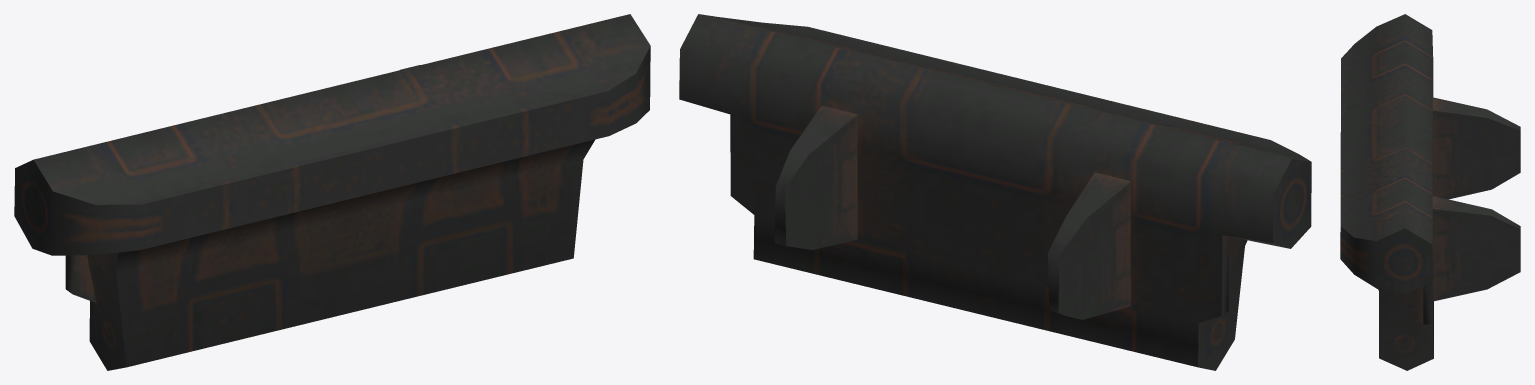
Rendered from track1_segment1.glb.
The picture shows the model from 3 angles, left to right: view 1: azimuth 30°, elevation 25°; view 2: azimuth 150°, elevation 25°; view 3: azimuth 270°, elevation 25°; orthographic projection. The views are drawn at different scales.
Parts seen in each view (by area): view 1: set_0_group_0; view 2: set_0_group_0; view 3: set_0_group_0.
Part boxes in pixels (left/top/right/bottom): set_0_group_0: left=14, top=14, right=650, bottom=370; set_0_group_0: left=679, top=14, right=1311, bottom=370; set_0_group_0: left=1340, top=14, right=1520, bottom=370.
Bounding box in the file's own units: 0.5224 × 0.1927 × 0.1854.
Materials: 1 (1 with a texture image).
